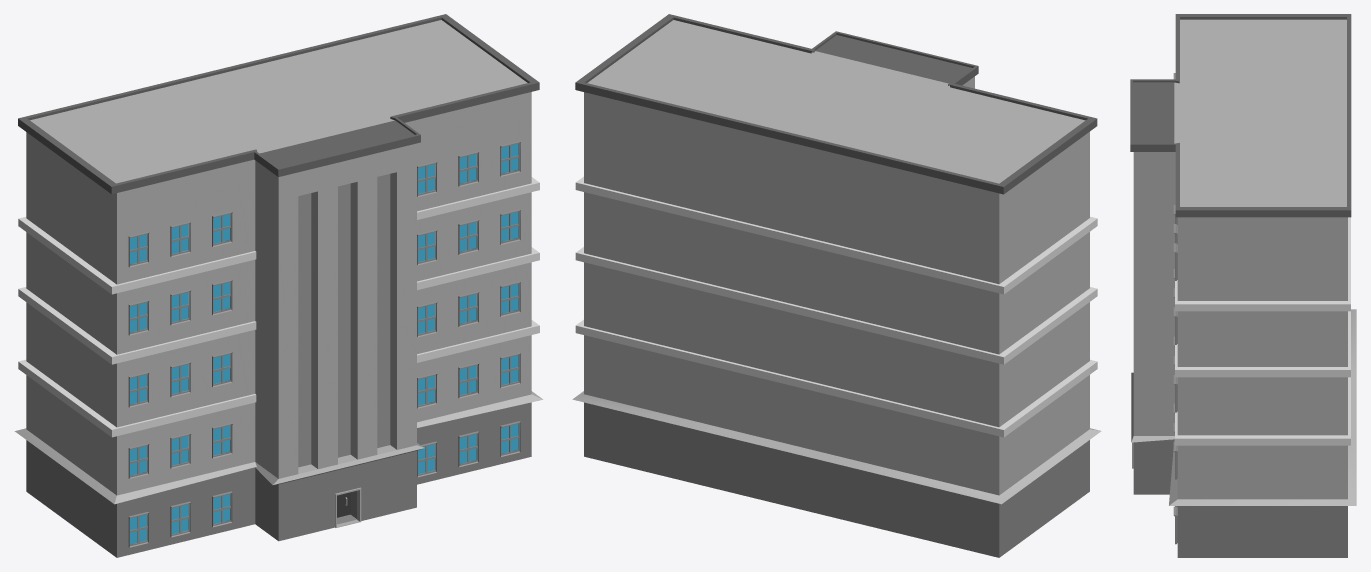
The model's file is zdaniii.fbx.
3 renders of one model, left to right at view 1: azimuth 30°, elevation 25°; view 2: azimuth 150°, elevation 25°; view 3: azimuth 270°, elevation 25°, orthographic. The views are drawn at different scales.
Parts seen in each view (by area): view 1: pCube10, pCube1, pCube11, pCube35, pCube38; view 2: pCube10, pCube1, pCube38, pCube35; view 3: pCube10, pCube1, pCube35, pCube38, pCube11.
Part boxes in pixels (x1,y1,x2,y2): pCube10: (14, 20, 542, 504); pCube1: (26, 402, 531, 557); pCube11: (128, 141, 520, 547); pCube35: (18, 14, 539, 194); pCube38: (18, 177, 539, 437); pCube10: (572, 20, 1101, 504); pCube1: (584, 402, 1089, 557); pCube38: (575, 176, 1097, 437); pCube35: (575, 14, 1097, 194); pCube10: (1131, 19, 1356, 505); pCube1: (1133, 439, 1347, 557); pCube35: (1130, 14, 1351, 217); pCube38: (1175, 217, 1350, 445); pCube11: (1173, 73, 1177, 544).
Bounding box in the file's own units: 667 × 555 × 325.
